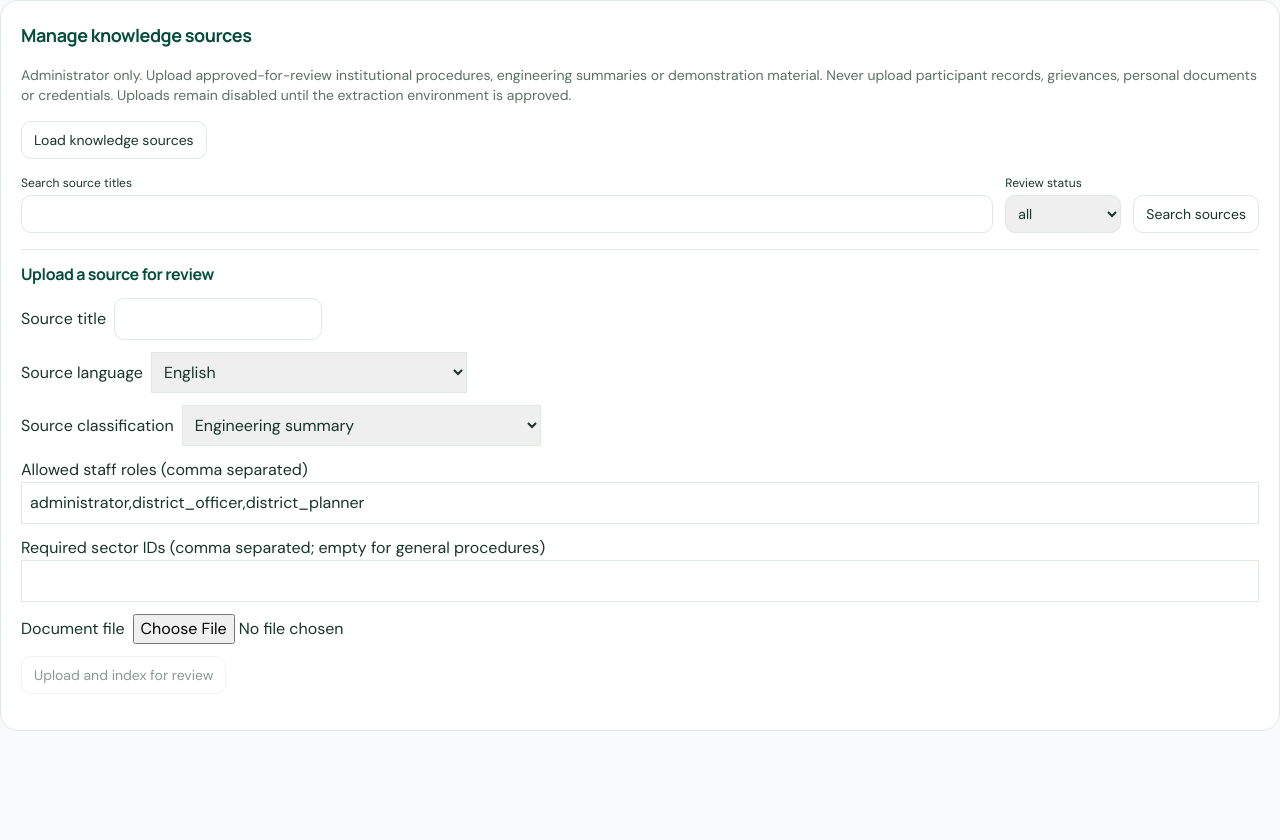
Test: loads pending sources, previews untrusted text and requires a review reference
Click the button "Load knowledge sources". click: (114, 140)
box: [21, 121, 207, 159]
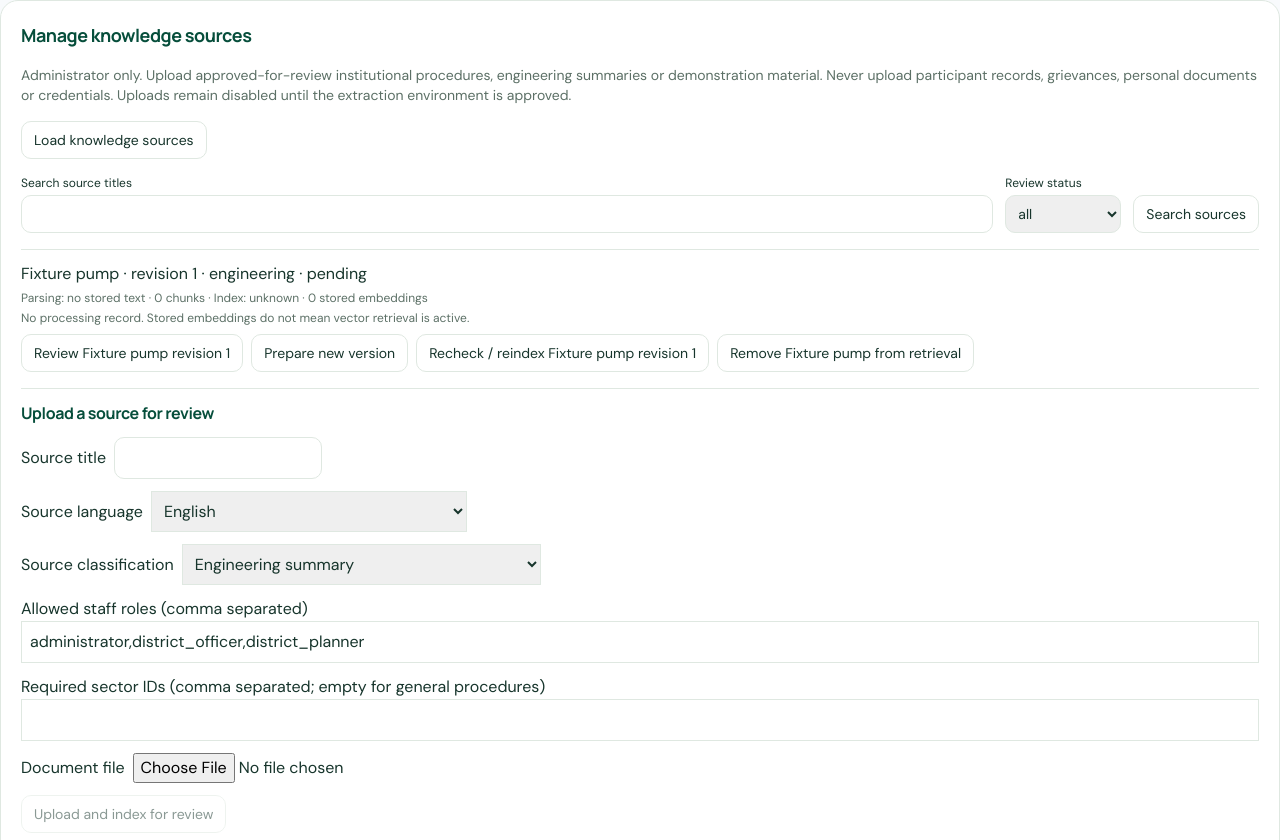
Click the button "Review Fixture pump revision 1". click: (132, 353)
box: [21, 334, 243, 372]
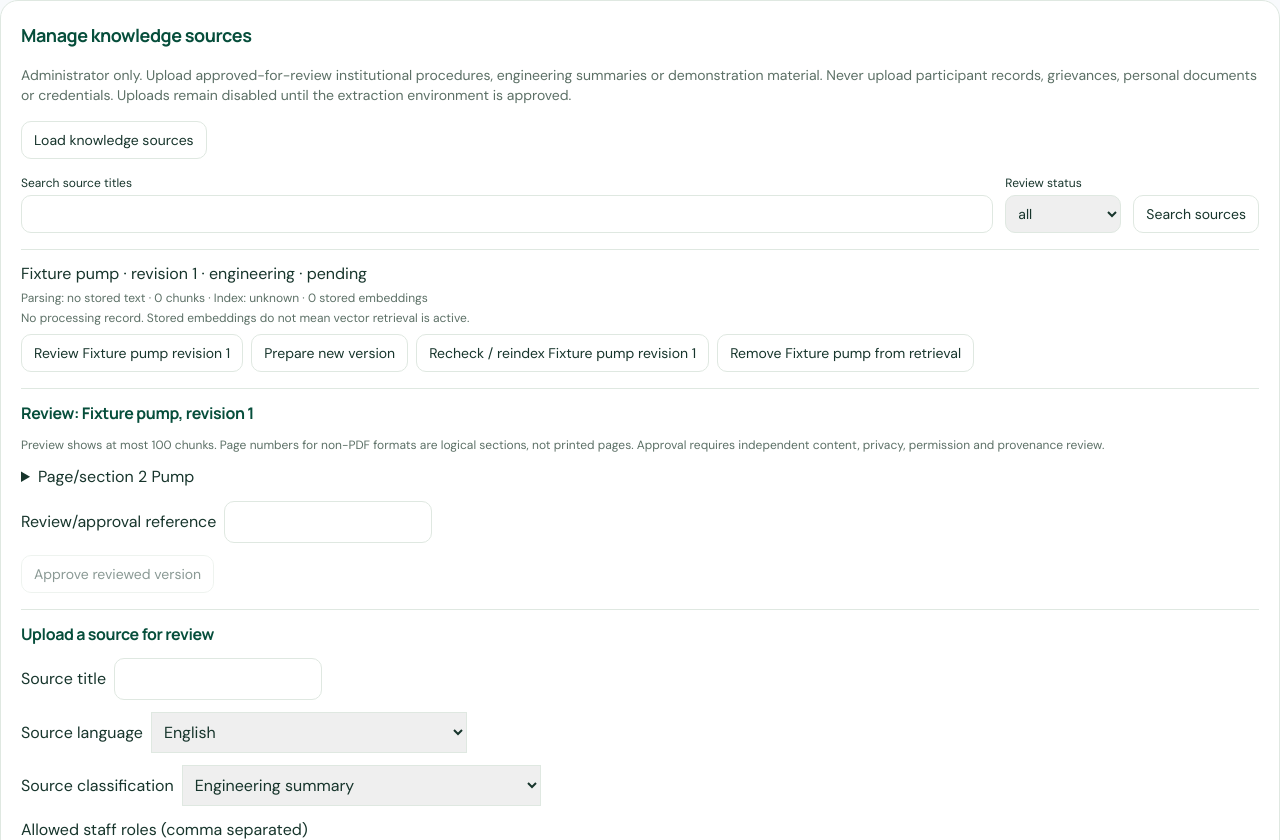
Now the button "Approve reviewed version" is disabled, box [21, 555, 214, 593]
Click the heading "Page/section 2 Pump". click: (116, 476)
box: [38, 466, 194, 487]
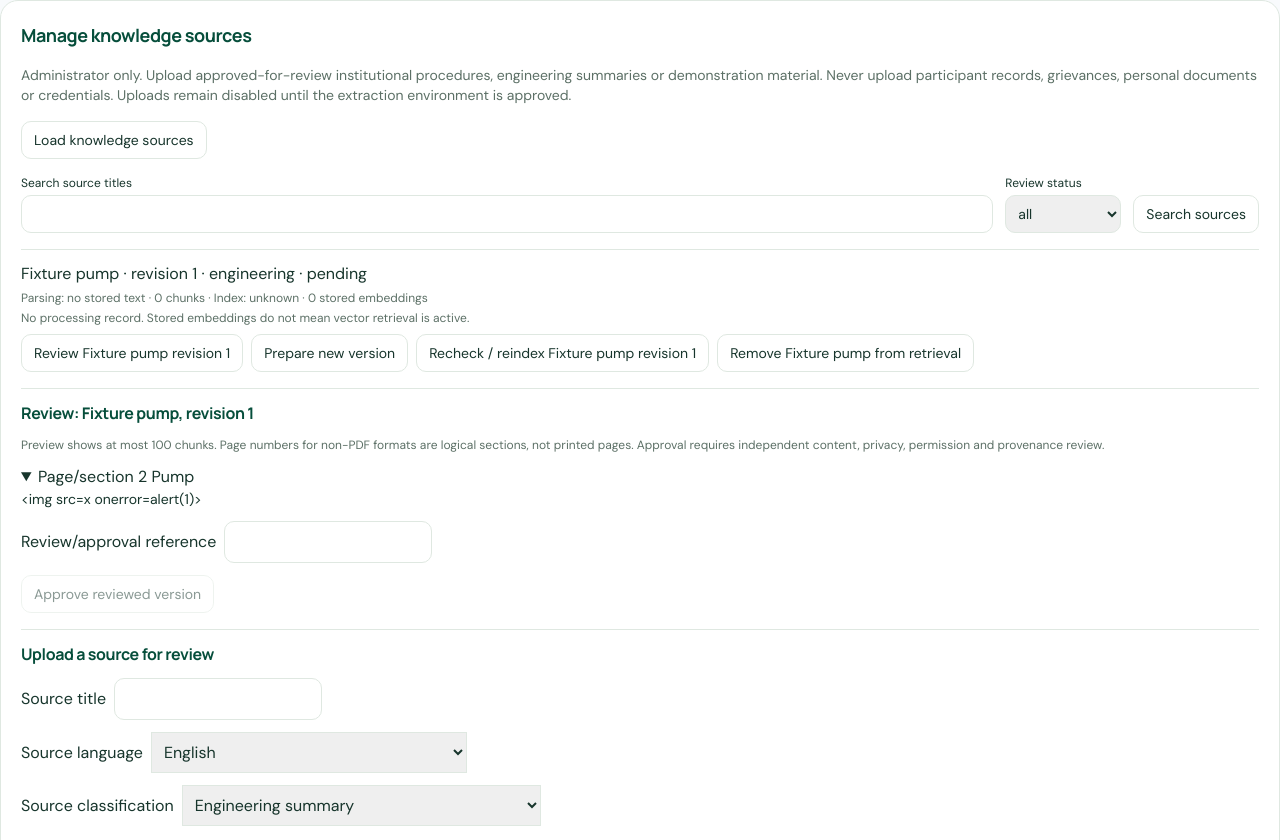
Now the text "<img src=x onerror=alert(1)>" is shown, box [21, 490, 202, 508]
Type "Synthetic fixture review" into the field labelled "Review/approval reference". click: (328, 542)
box: [224, 521, 432, 563]
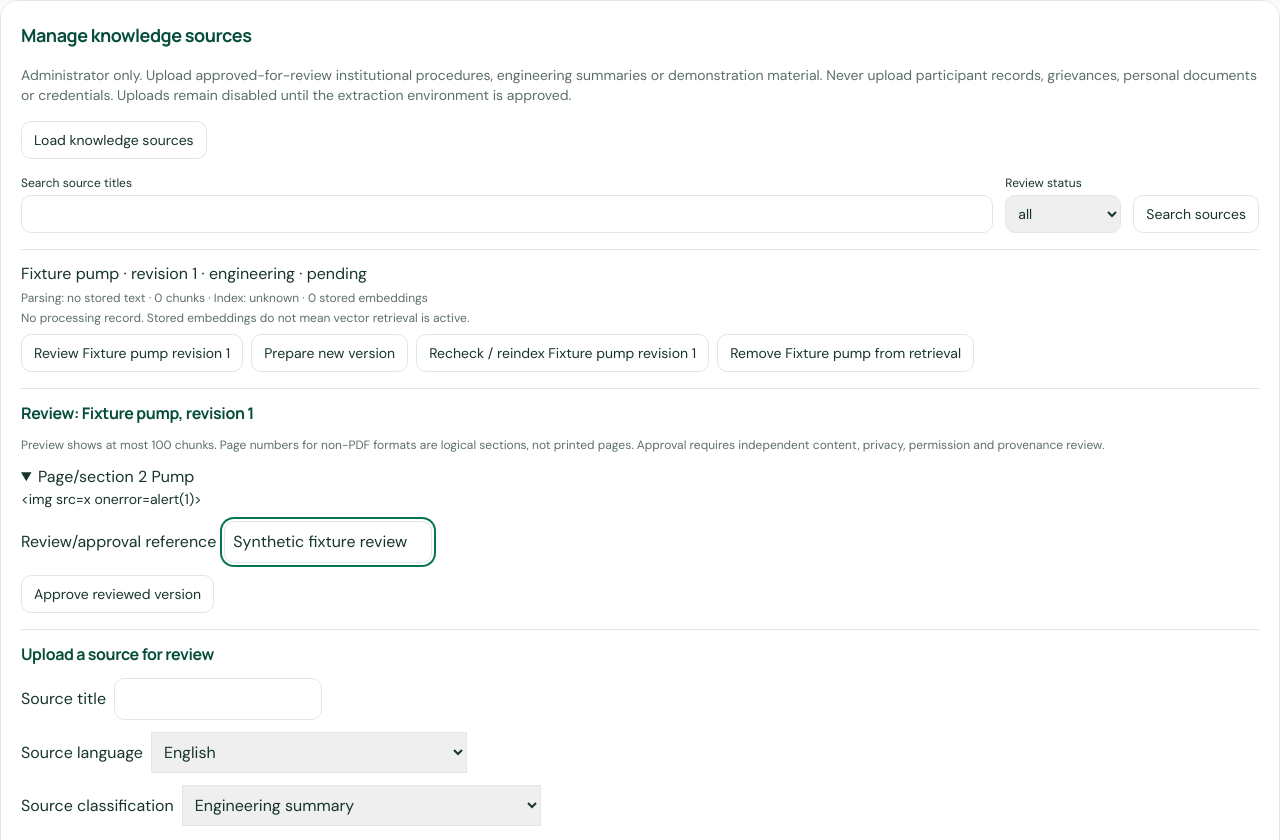
Now the button "Approve reviewed version" is enabled, box [21, 575, 214, 613]
